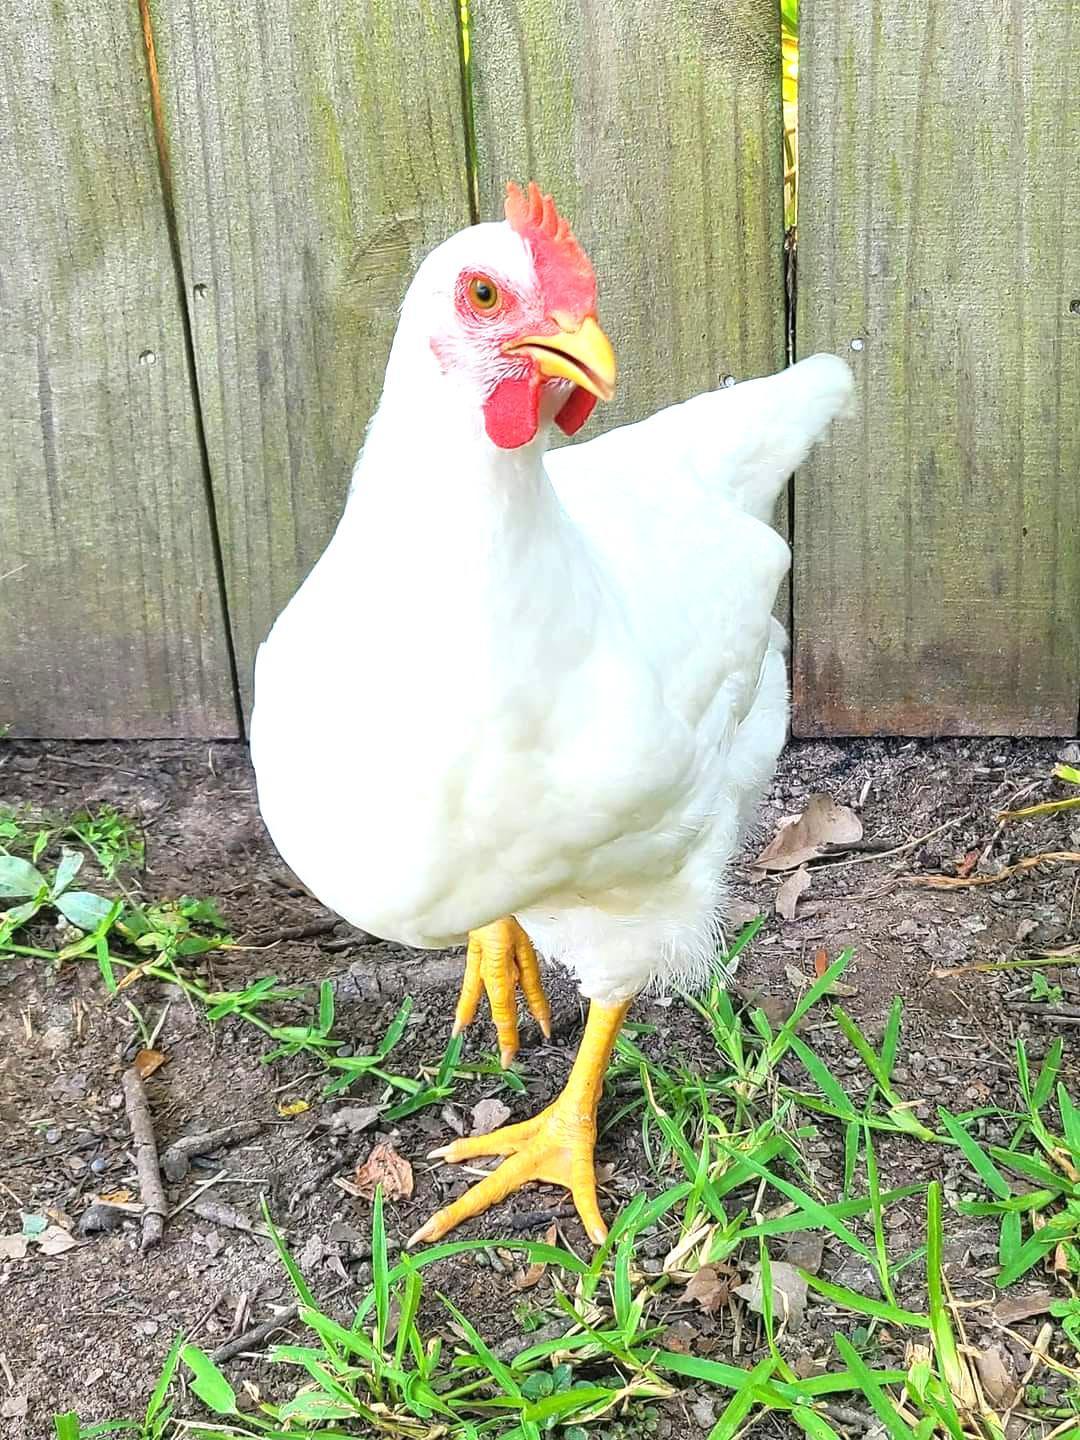Healthy: (221, 176, 861, 1242)
